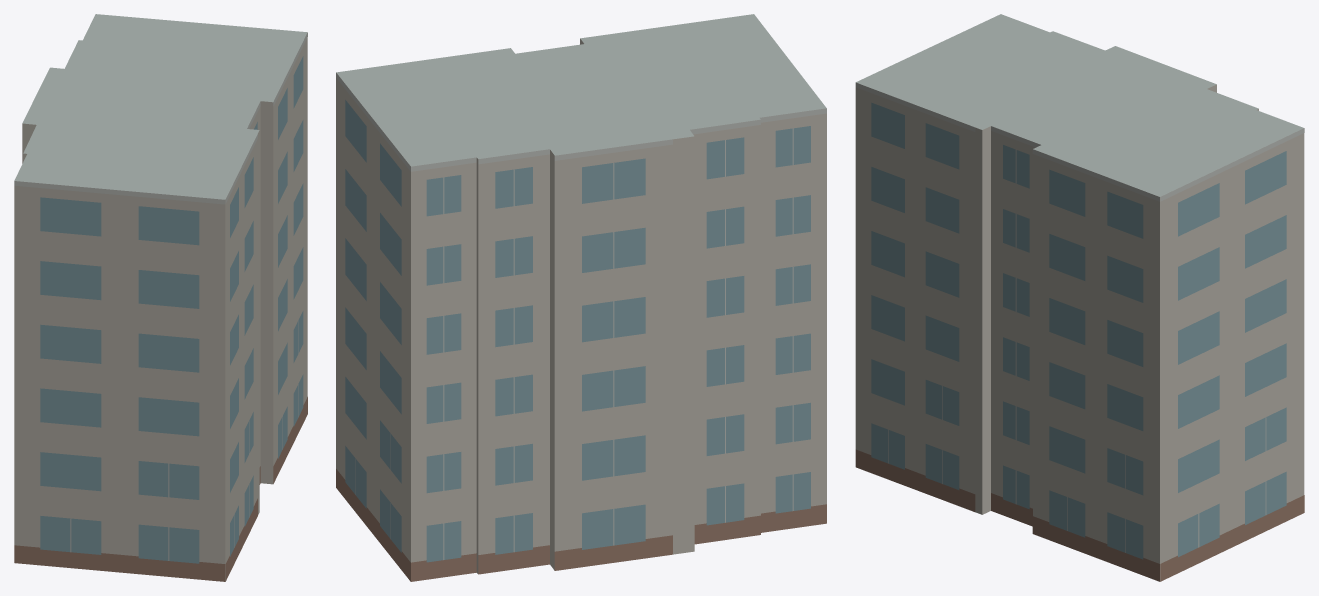
Rendered from survey-upis-32525884.glb.
3 renders of one model, left to right at view 1: azimuth 30°, elevation 25°; view 2: azimuth 150°, elevation 25°; view 3: azimuth 270°, elevation 25°, orthographic. The views are drawn at different scales.
Visible parts, largest first — view 1: survey-upis-32525884.tmp; view 2: survey-upis-32525884.tmp; view 3: survey-upis-32525884.tmp.
Part boxes in pixels (box(x1,y1,x2,y2)): survey-upis-32525884.tmp: box(14, 14, 307, 581); survey-upis-32525884.tmp: box(336, 14, 826, 581); survey-upis-32525884.tmp: box(855, 14, 1304, 581).
Size of the model in its own units: 19.9 by 19.5 by 20.62.
